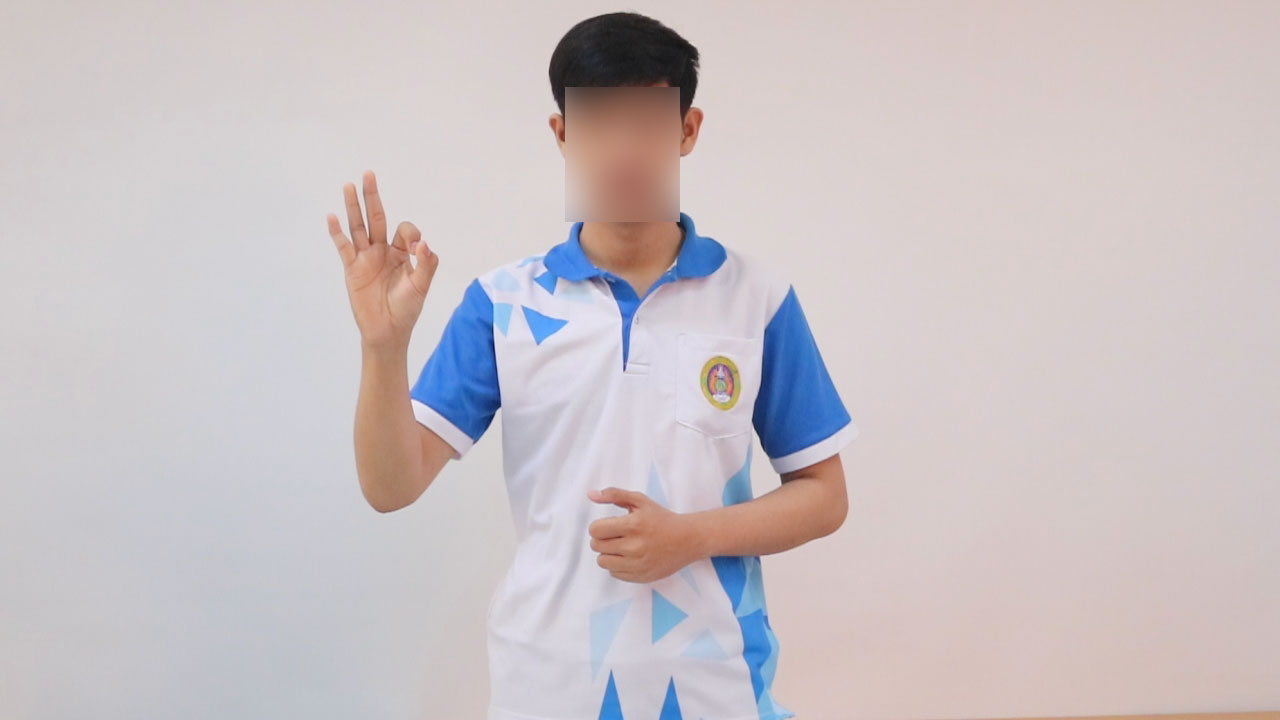for: (321, 157, 446, 368)
